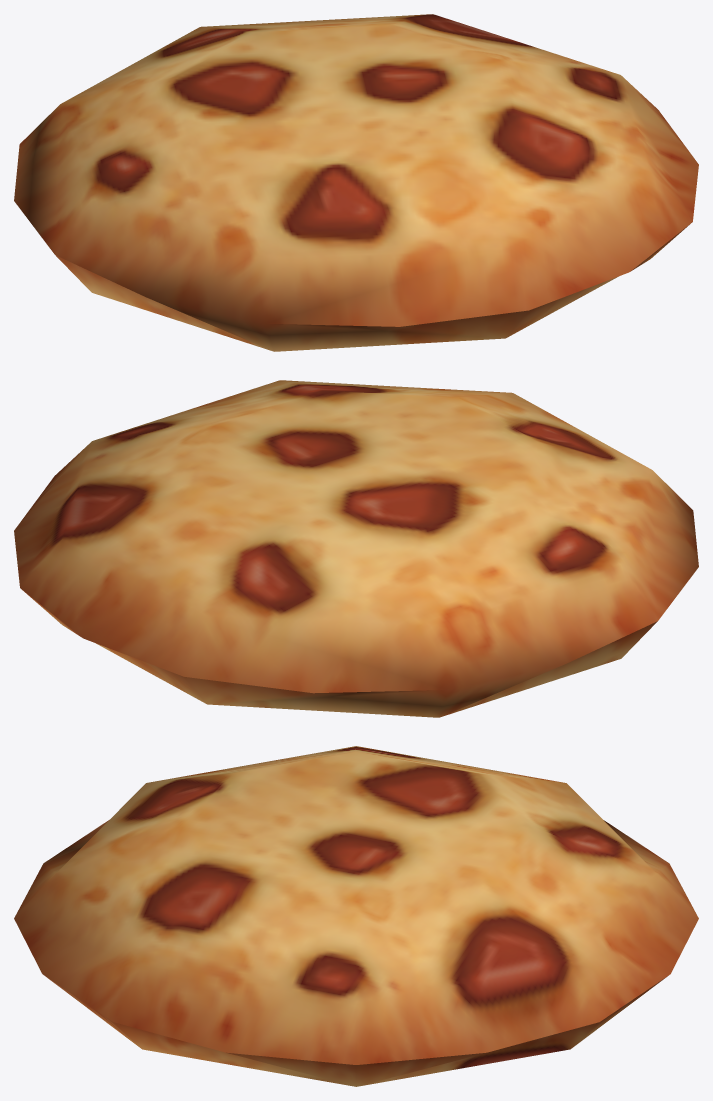
File: SE_Cookie_01.fbx
3 renders of one model, top to bottom at view 1: azimuth 30°, elevation 25°; view 2: azimuth 150°, elevation 25°; view 3: azimuth 270°, elevation 25°, orthographic.
Parts seen in each view (by area): view 1: SE_Cookie_01; view 2: SE_Cookie_01; view 3: SE_Cookie_01.
Part boxes in pixels (<box>): SE_Cookie_01: <box>14,14,698,351</box>; SE_Cookie_01: <box>14,380,698,717</box>; SE_Cookie_01: <box>14,746,698,1086</box>.
Bounding box in the file's own units: 1.27 × 0.3624 × 1.27.
